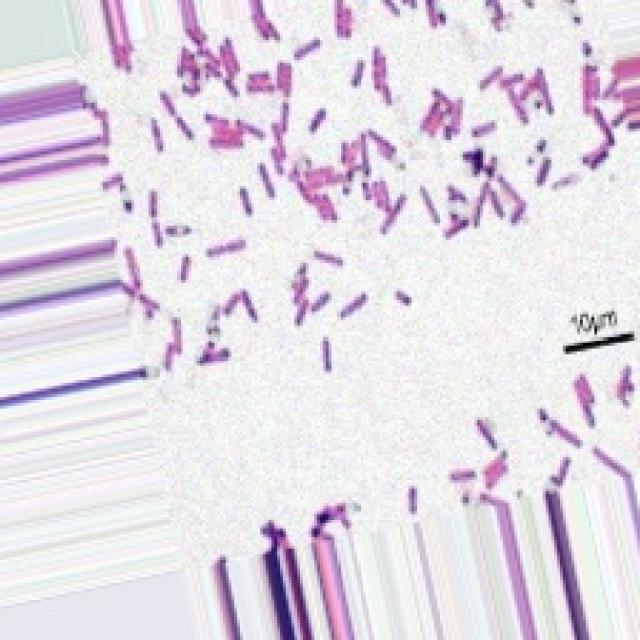Rod_bacteria: (37, 0, 637, 637)
